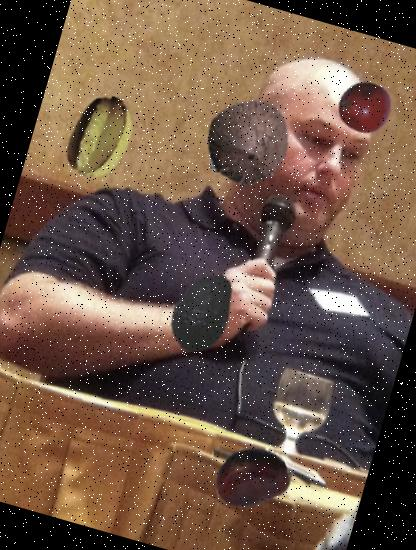Avocado: (151, 260, 254, 363)
Carambula: (48, 84, 154, 190)
Chestnut: (204, 430, 297, 524)
Cocos: (192, 84, 306, 198)
Pomegranate: (330, 74, 398, 141)
